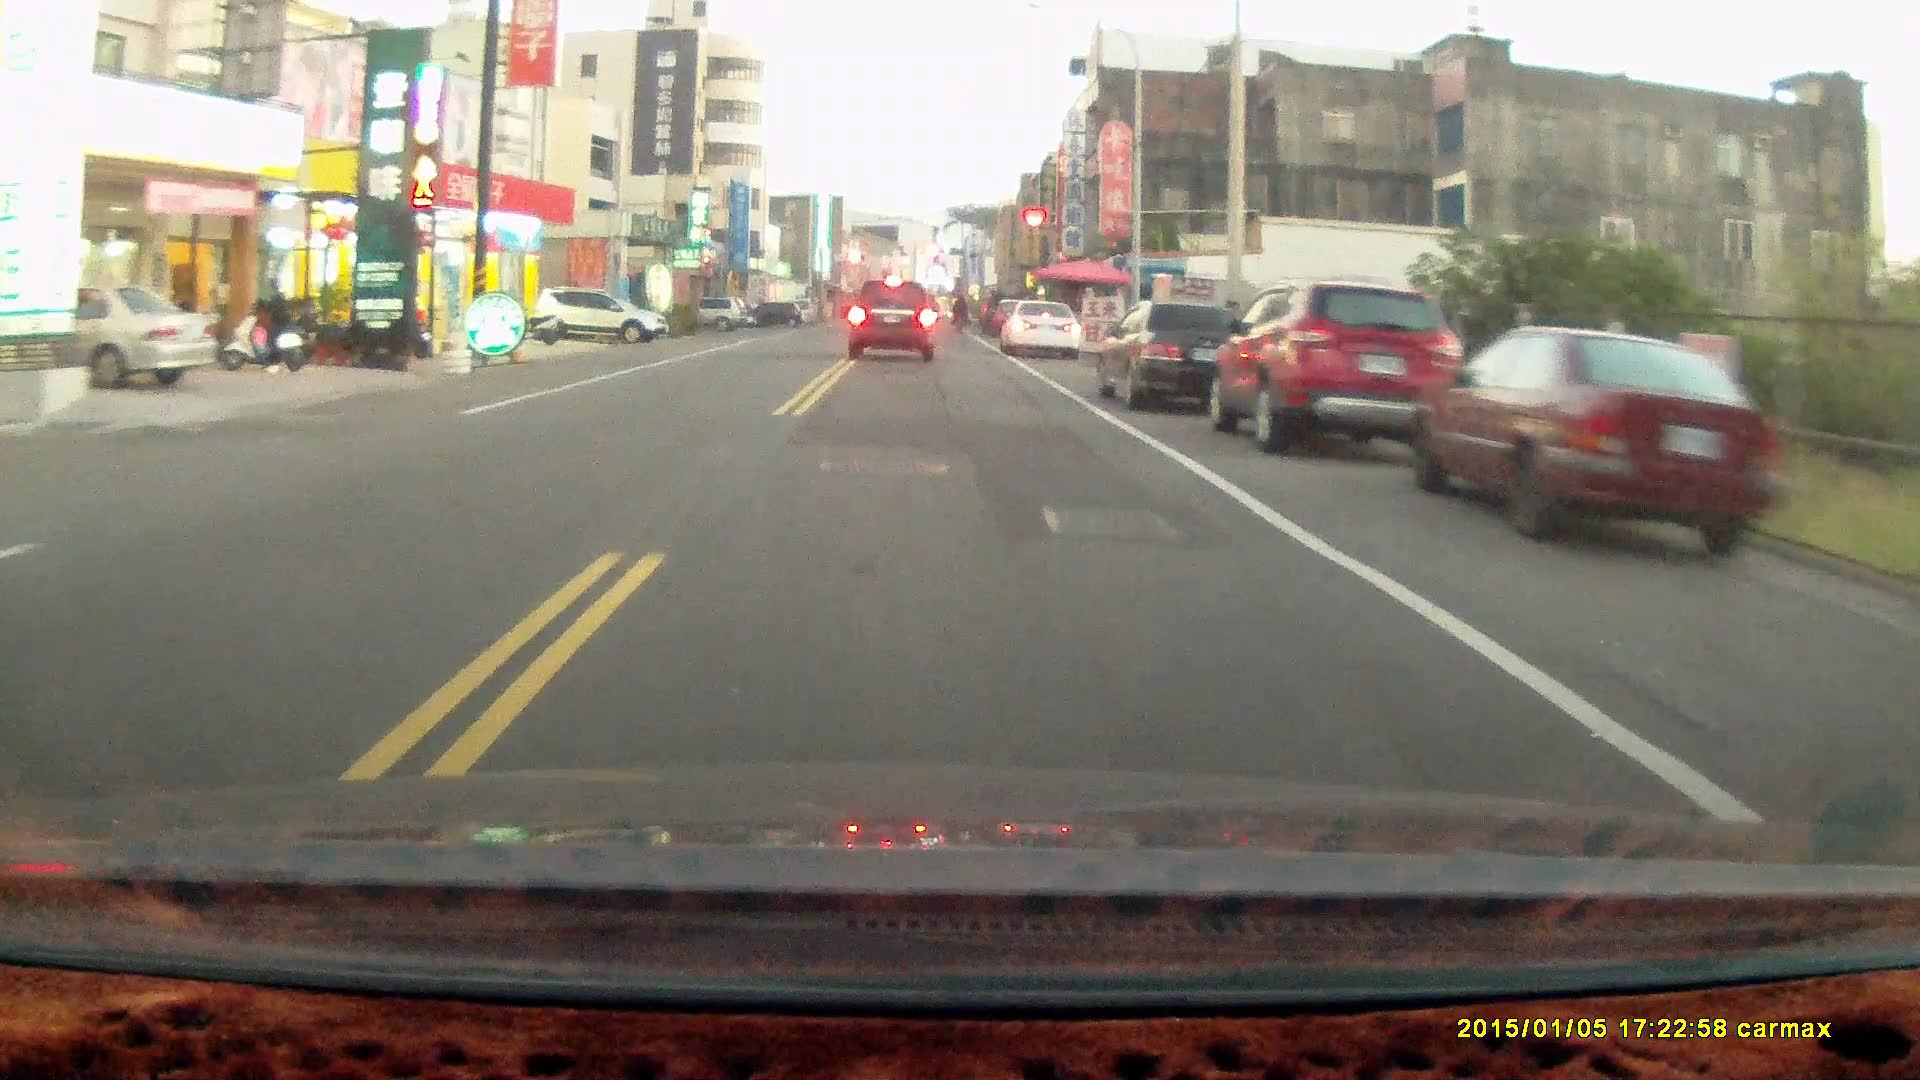vehicle: (1408, 326, 1787, 567), (1215, 277, 1480, 454), (1, 287, 222, 392), (1098, 301, 1257, 413), (534, 284, 673, 348), (847, 281, 938, 364), (1001, 298, 1083, 360)
